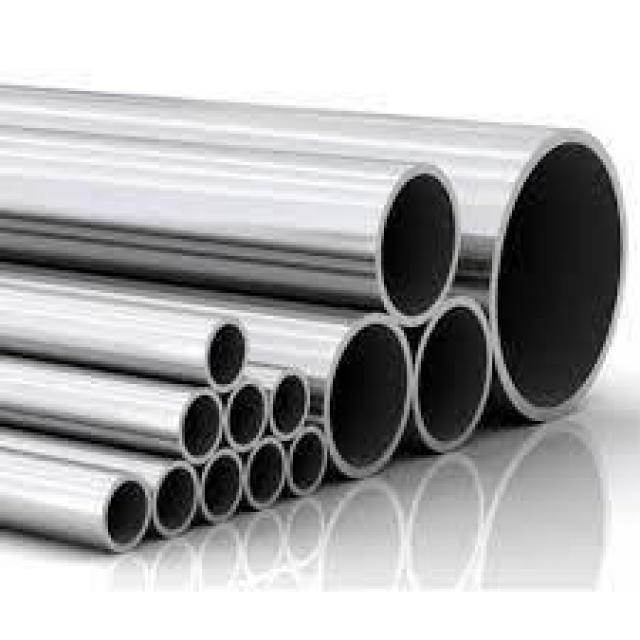pipe: (487, 119, 632, 424), (368, 157, 465, 328), (320, 313, 414, 483), (415, 293, 498, 458), (97, 475, 151, 555), (199, 311, 250, 394), (172, 387, 226, 464), (200, 449, 249, 529), (152, 461, 201, 538), (243, 438, 292, 512), (225, 378, 271, 455), (267, 367, 310, 441), (287, 427, 330, 501)
